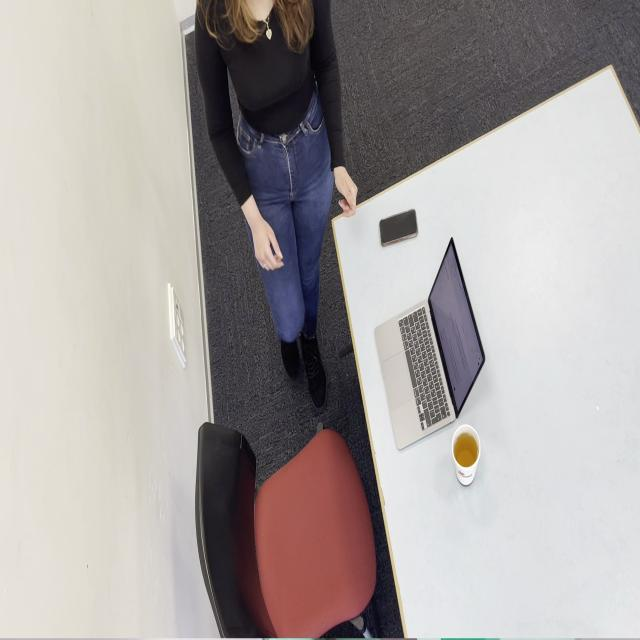bag: (379, 208, 418, 247)
ipad: (194, 0, 358, 412)
laptop: (374, 236, 486, 451)
